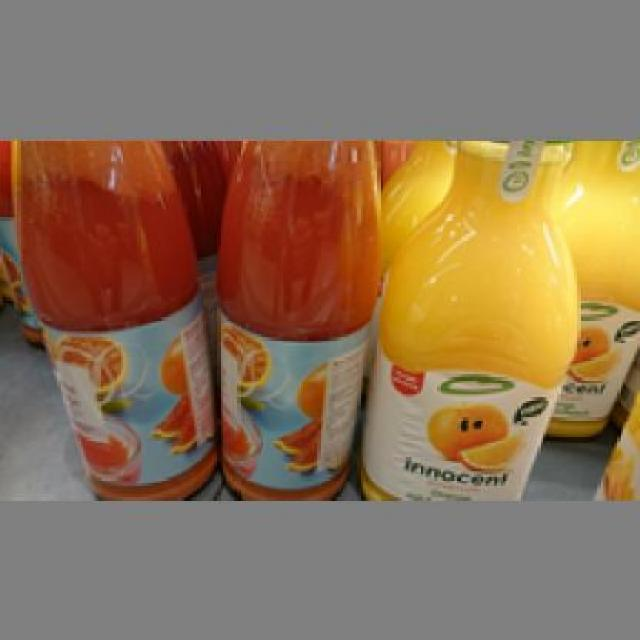Juice: (354, 137, 580, 497), (9, 137, 218, 497), (211, 137, 386, 497)
